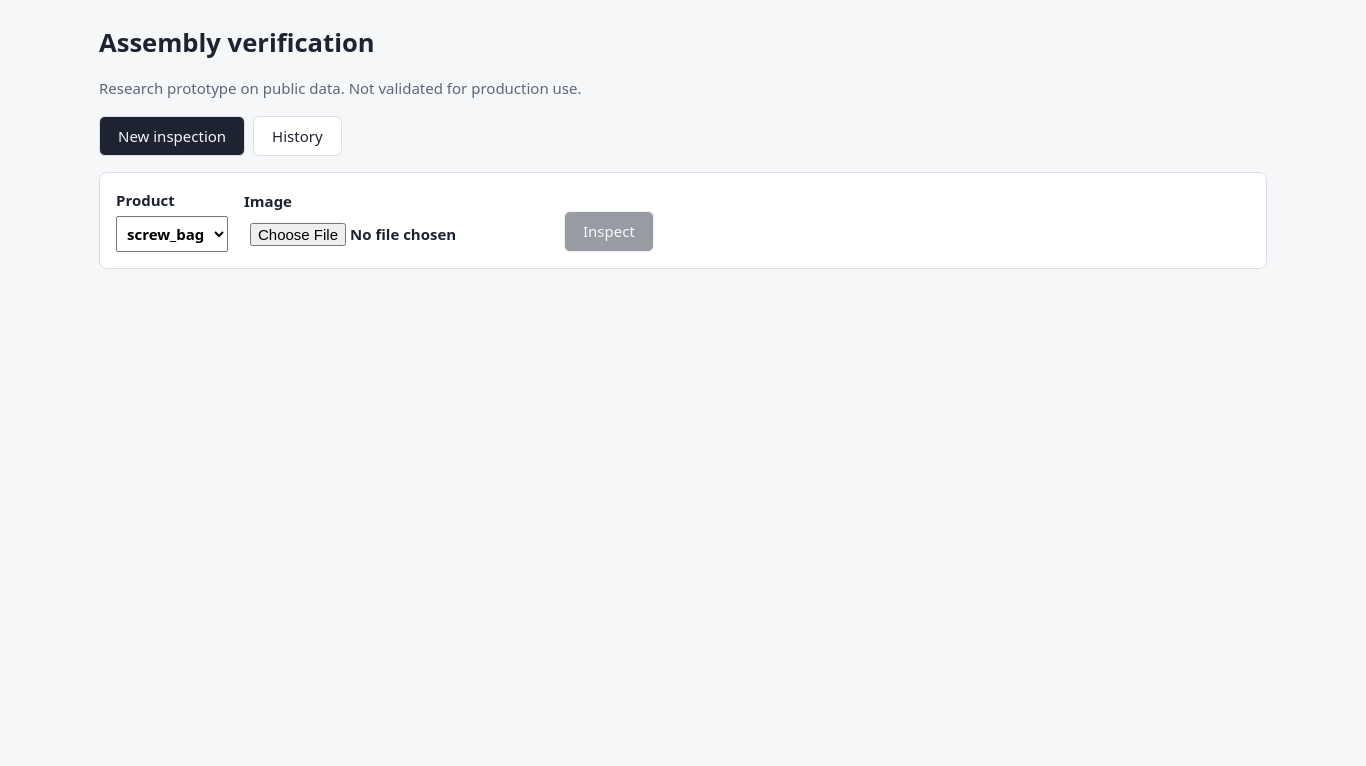
Test: History › opens a stored inspection and can close it
Click the button "History".
click(297, 136)  # box x1=253 y1=116 x2=342 y2=156
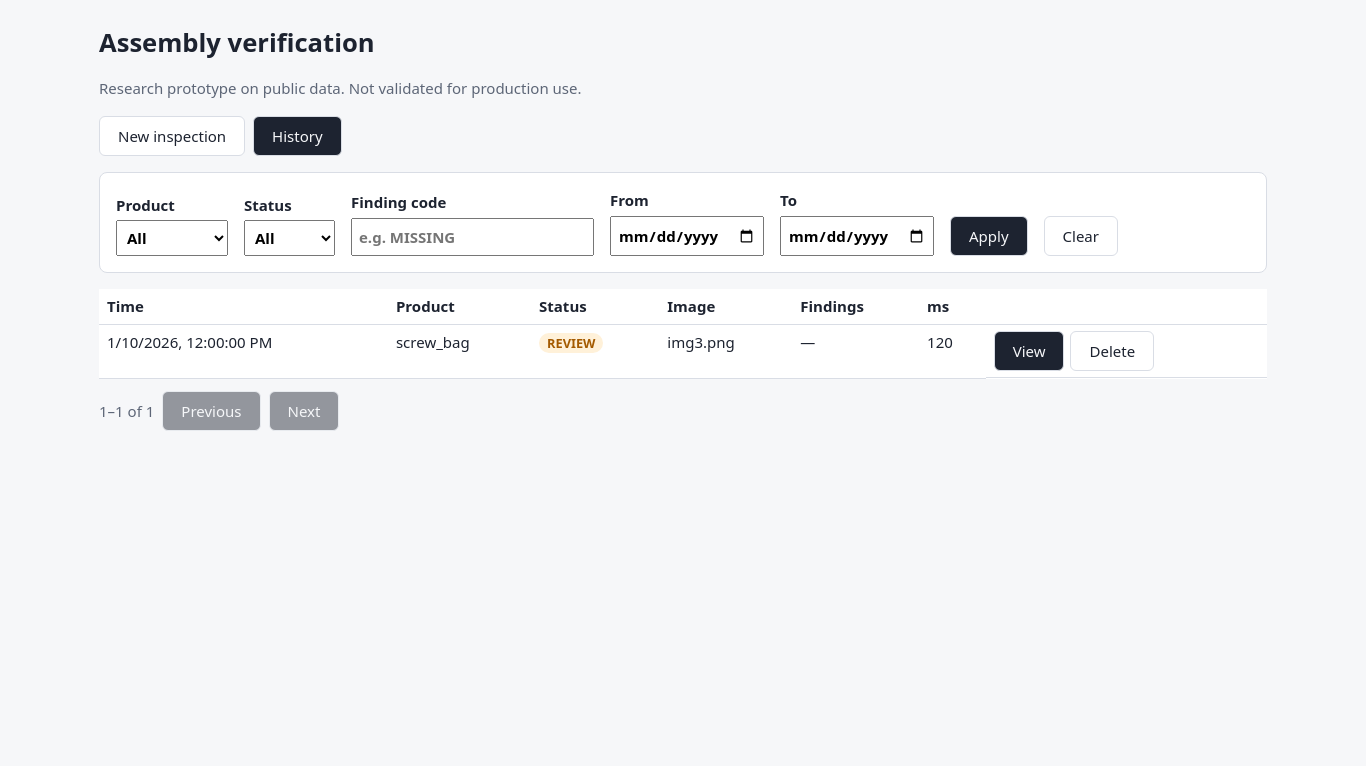
Click the button with aria-label "View img3.png".
click(1029, 351)  # box x1=994 y1=331 x2=1064 y2=371
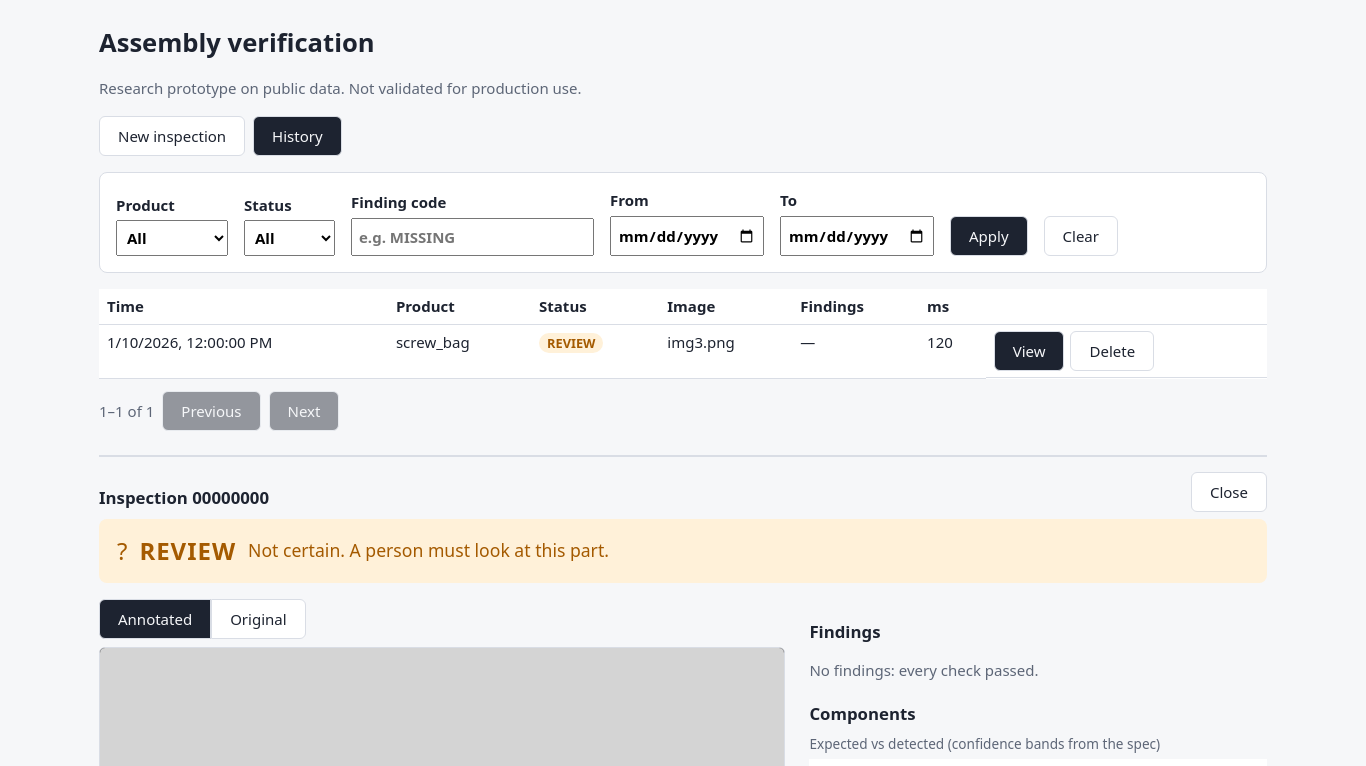
Check: the message shows "REVIEW", box x1=139 y1=534 x2=236 y2=567
Click the button "Close".
click(1229, 492)  # box x1=1191 y1=472 x2=1267 y2=512
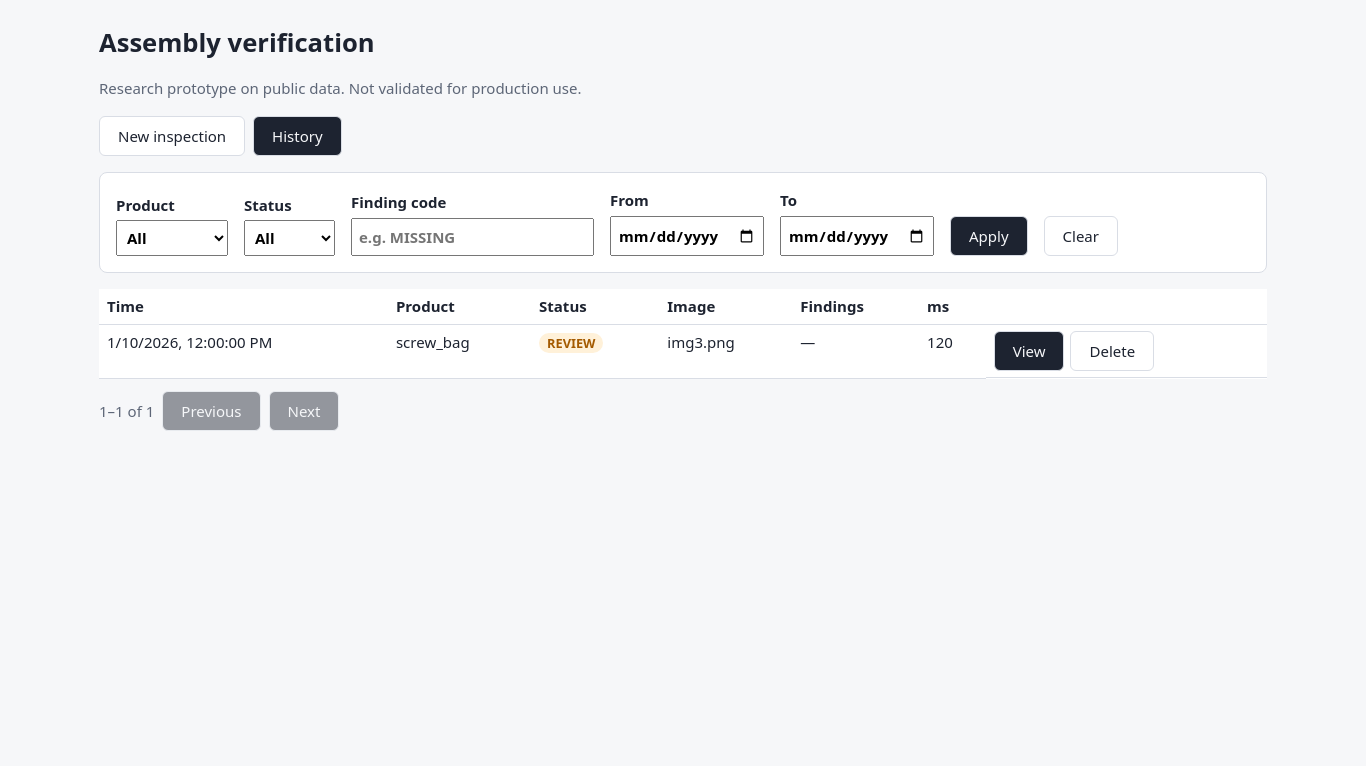
Check: the message "? REVIEW Not certain. A person must look at this part." is gone
